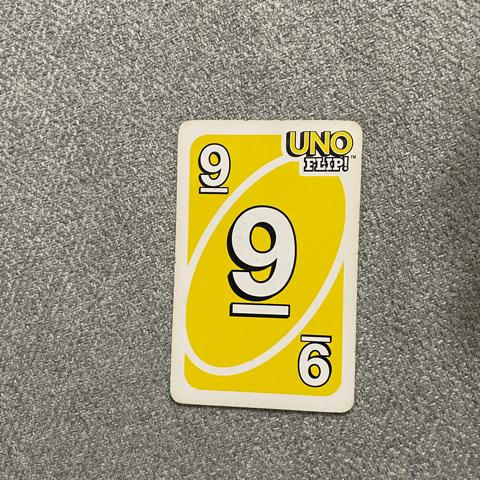draw2_red: (220, 203, 307, 323), (191, 142, 247, 199), (289, 332, 339, 391)
